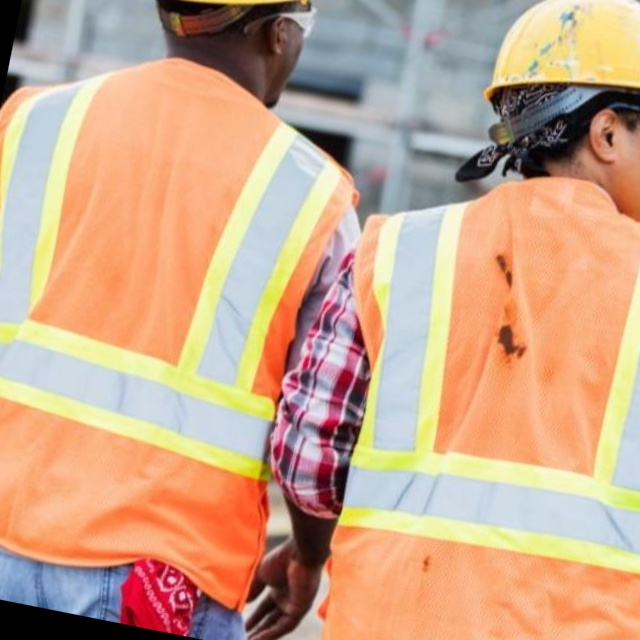Con_Casco: (121, 0, 372, 98)
Con_Chaleco: (0, 32, 358, 596), (299, 147, 640, 640)
